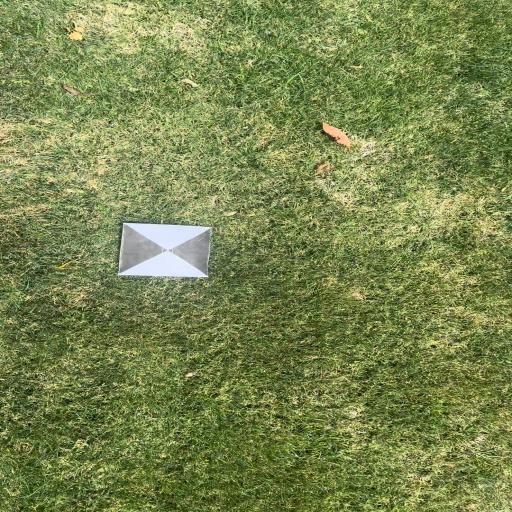target: (124, 225, 209, 276)
